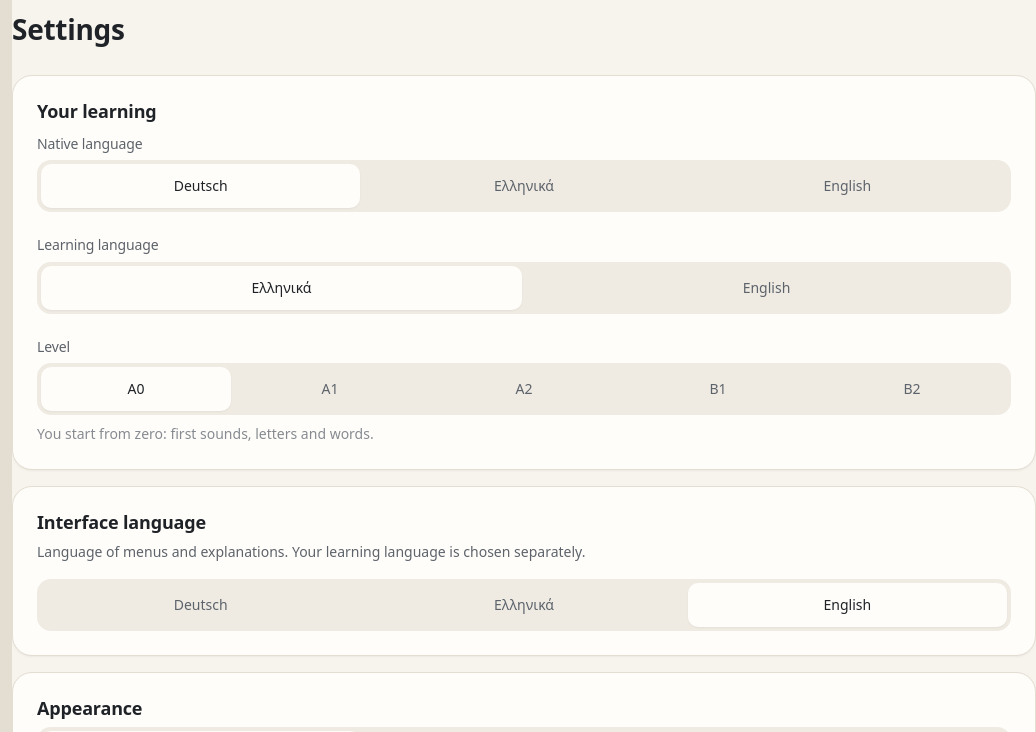
Test: SettingsPage › switches the interface language
Click the radio button labelled "Ελληνικά" below "Interface language": click(524, 605) [364, 583, 684, 627]
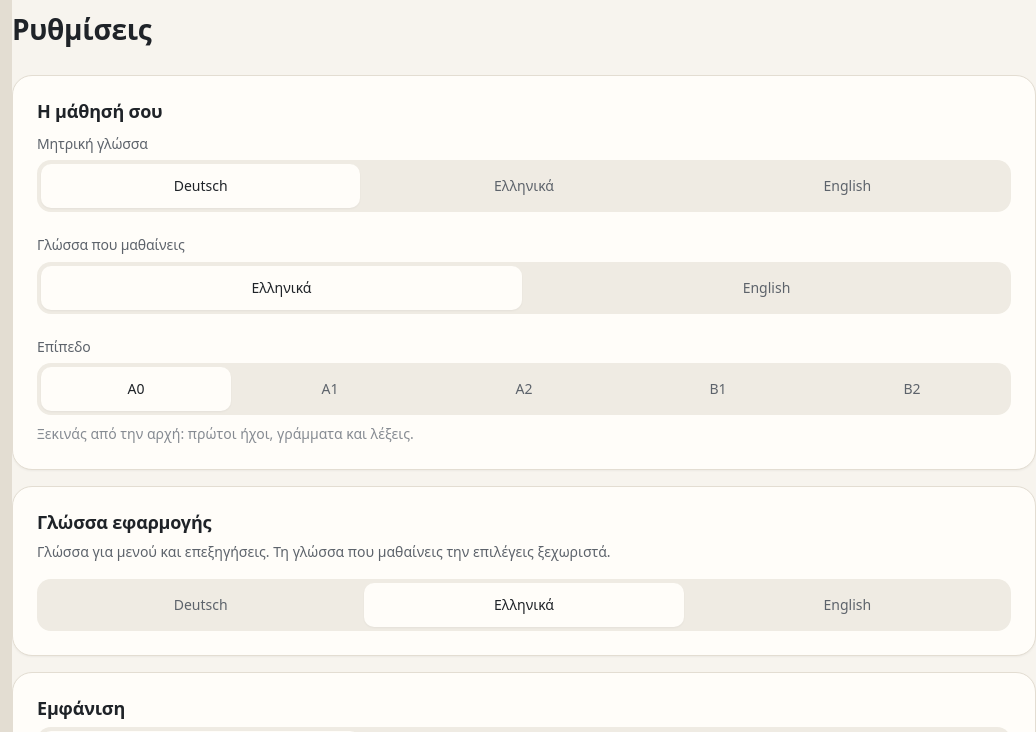
Now the heading "Ρυθμίσεις" is shown, box [12, 10, 152, 48]
